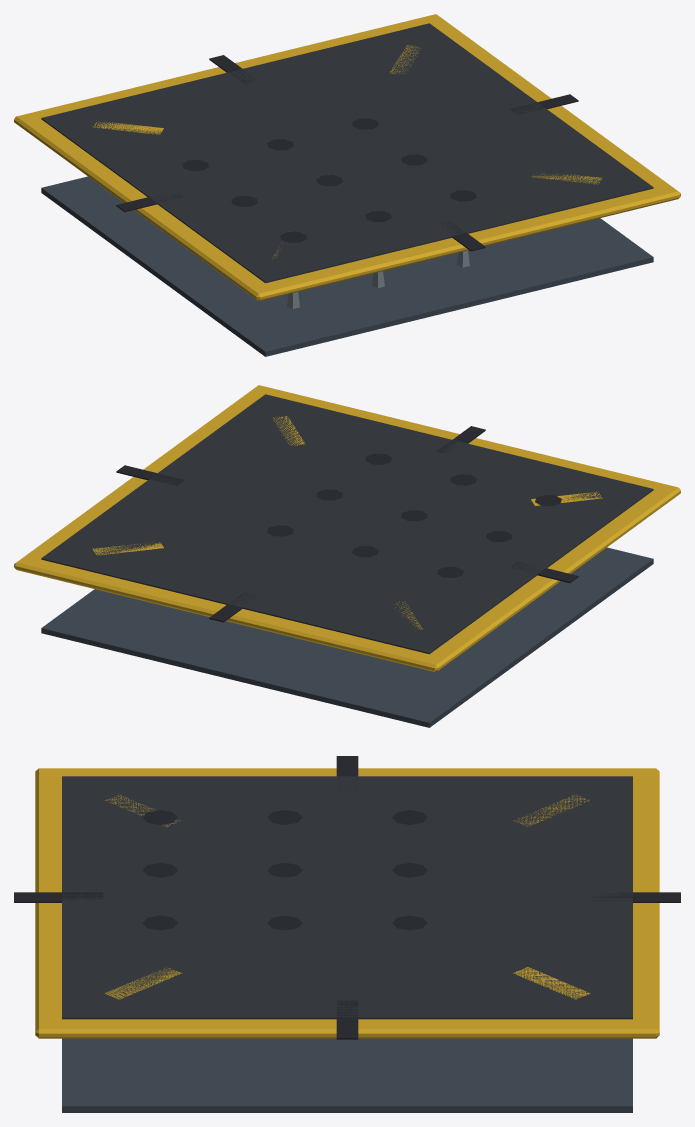
The model's file is trap.fbx.
3 views of the same model, one above another, from view 1: azimuth 30°, elevation 25°; view 2: azimuth 150°, elevation 25°; view 3: azimuth 270°, elevation 25° (orthographic). The views are drawn at different scales.
Visible parts, largest first — view 1: trap, Spikes; view 2: trap, Spikes; view 3: trap, Spikes.
Boxes of the visible parts, <box> form: trap: <box>14,14,680,301</box>; Spikes: <box>41,176,653,356</box>; trap: <box>14,385,680,672</box>; Spikes: <box>41,547,653,727</box>; trap: <box>14,756,680,1039</box>; Spikes: <box>62,1038,632,1112</box>.
Size of the model in its own units: 3.74 by 0.592 by 3.74.
